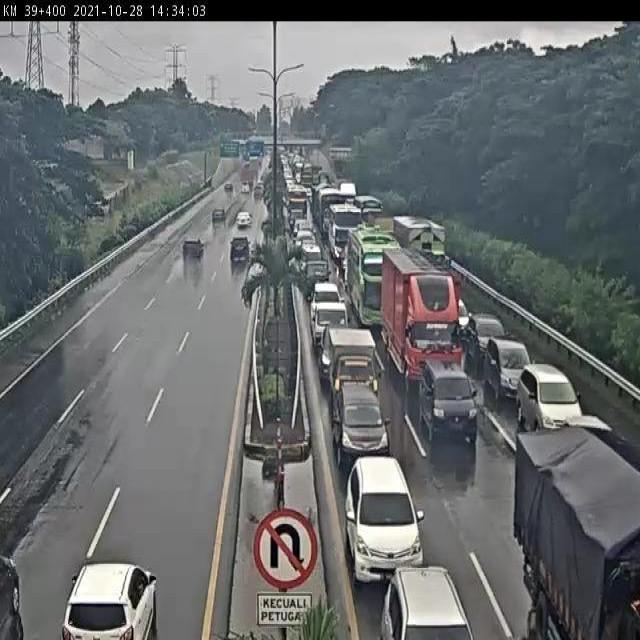big bus: (348, 228, 401, 329), (322, 202, 362, 258), (286, 186, 308, 226)
big truck: (380, 247, 459, 393), (392, 212, 456, 284), (318, 190, 347, 238)
car: (343, 457, 423, 587), (62, 562, 159, 640), (416, 356, 478, 447), (520, 364, 584, 439), (322, 328, 384, 405), (327, 382, 389, 458), (488, 339, 533, 401), (309, 296, 350, 352), (466, 313, 508, 360), (298, 258, 330, 298), (447, 293, 470, 335), (229, 238, 251, 270), (181, 236, 206, 264), (296, 238, 320, 266), (312, 278, 340, 302), (233, 209, 255, 231), (207, 212, 226, 235), (294, 222, 312, 242)
